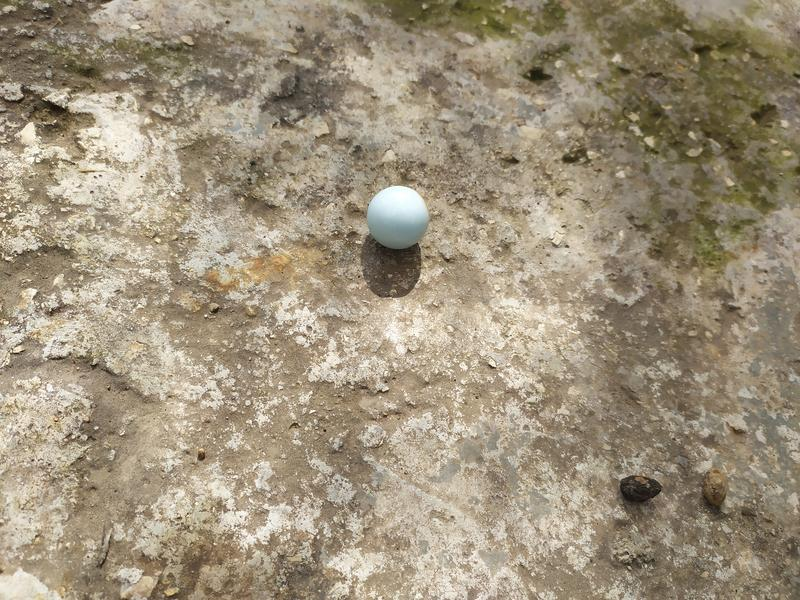Warning: (365, 184, 432, 251)
